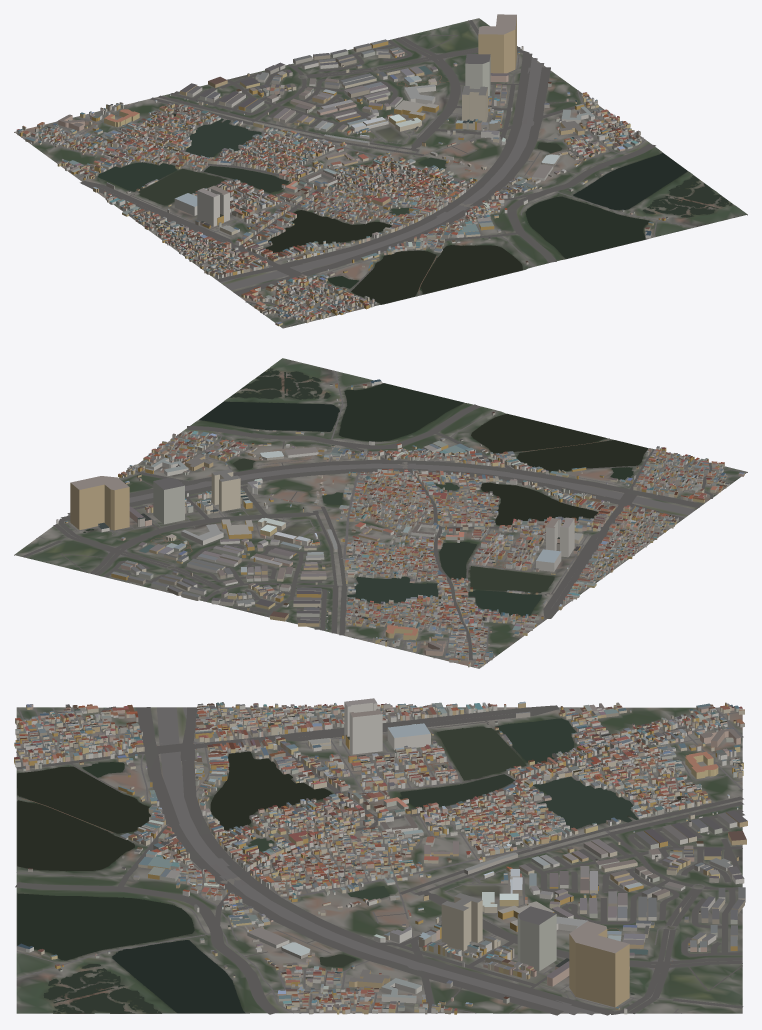
3 views of the same model, one above another, from view 1: azimuth 30°, elevation 25°; view 2: azimuth 150°, elevation 25°; view 3: azimuth 270°, elevation 25° (orthographic). The views are drawn at different scales.
Visible parts, largest first — view 1: buildings, ground, water, roads; view 2: buildings, ground, water, roads; view 3: buildings, ground, water, roads.
Part boxes in pixels (<box>): buildings: <box>16,14,668,326</box>; ground: <box>14,18,747,328</box>; water: <box>98,65,732,304</box>; roads: <box>21,20,694,328</box>; buildings: <box>56,379,744,667</box>; ground: <box>14,358,747,668</box>; water: <box>83,368,714,618</box>; roads: <box>22,371,747,666</box>; buildings: <box>14,698,747,1014</box>; ground: <box>16,707,742,1013</box>; water: <box>17,707,684,1013</box>; roads: <box>15,705,744,1015</box>.
Bounding box in the file's own units: 1422 × 121 × 1417.
